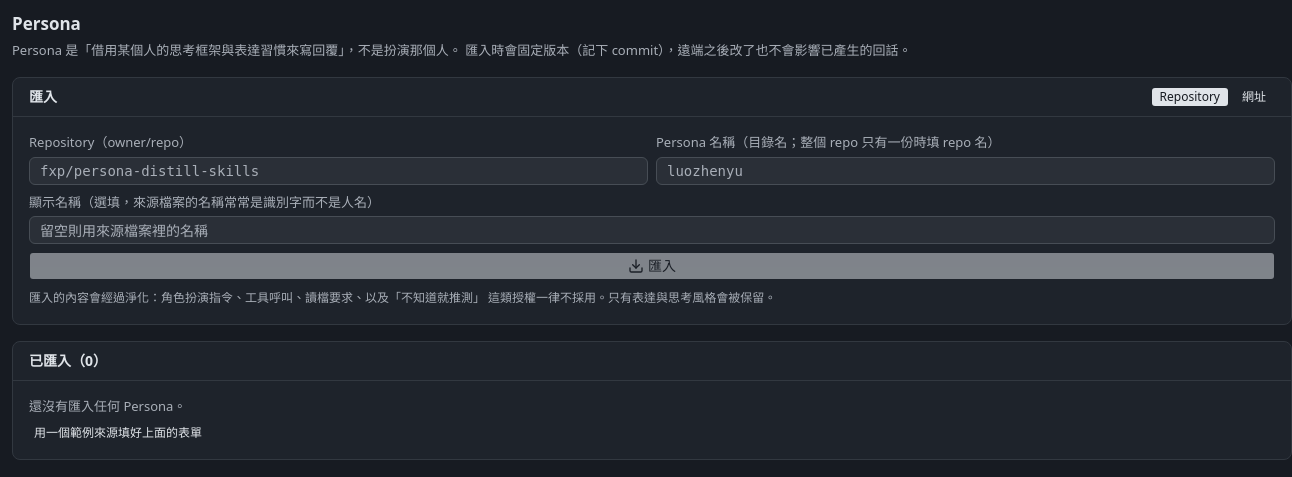
Test: Persona 設定頁：空狀態的「填入範例」 › **按了之後表單被填好，但沒有匯入**
Click the button "用一個範例來源填好上面的表單" at (118, 433), box [29,423,207,443]
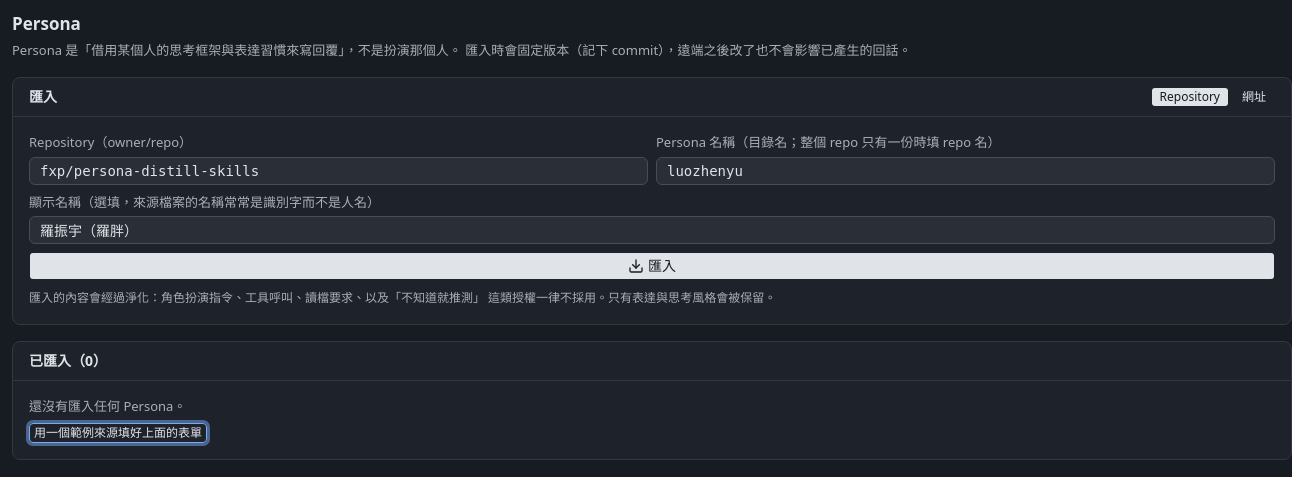
Now the field labelled "Repository（owner/repo）" holds "fxp/persona-distill-skills", box [29,157,648,185]
Now the field labelled "Persona 名稱（目錄名；整個 repo 只有一份時填 repo 名）" holds "luozhenyu", box [656,157,1275,185]
Now the field labelled "顯示名稱（選填，來源檔案的名稱常常是識別字而不是人名）" holds "羅振宇（羅胖）", box [29,216,1275,244]
